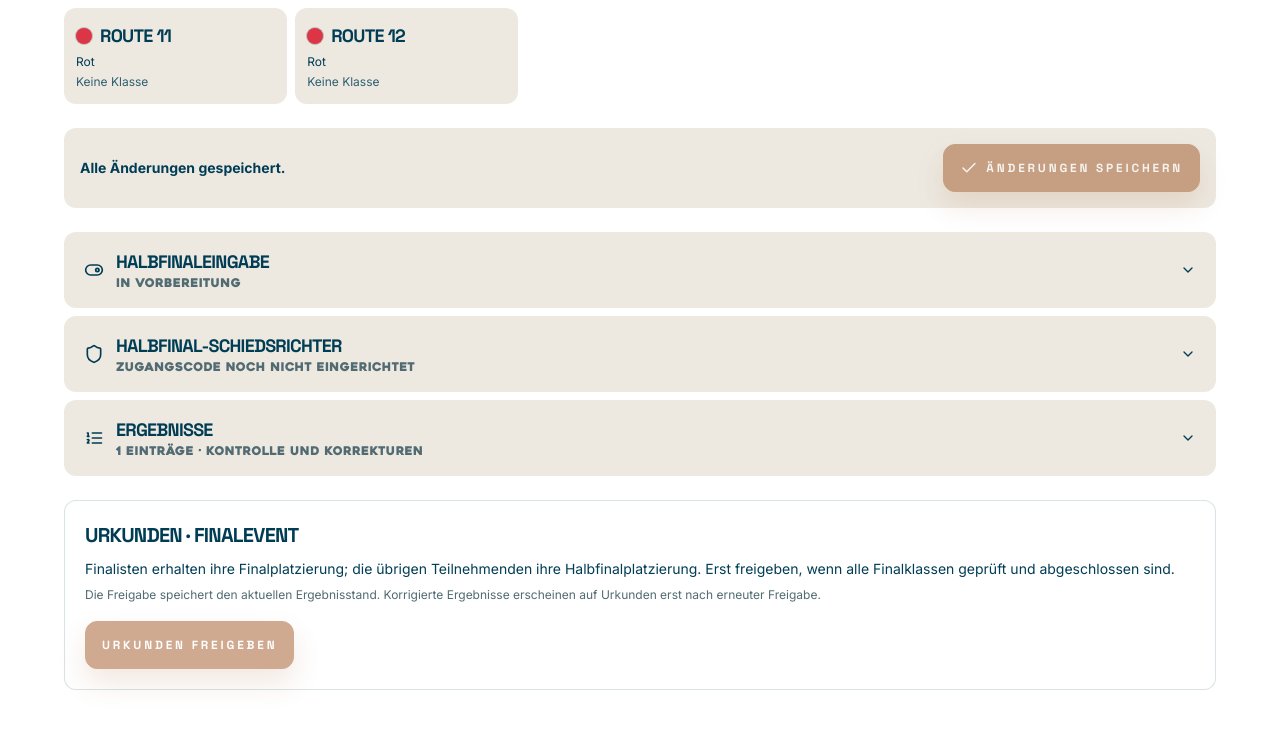
Test: competition admin › labels existing results and correction choices with physical grip numbers
(page scrolled)
Step 1. Click the button "Ergebnisse 1 Einträge · Kontrolle und Korrekturen" → (164, 430), box [64,400,1216,476]
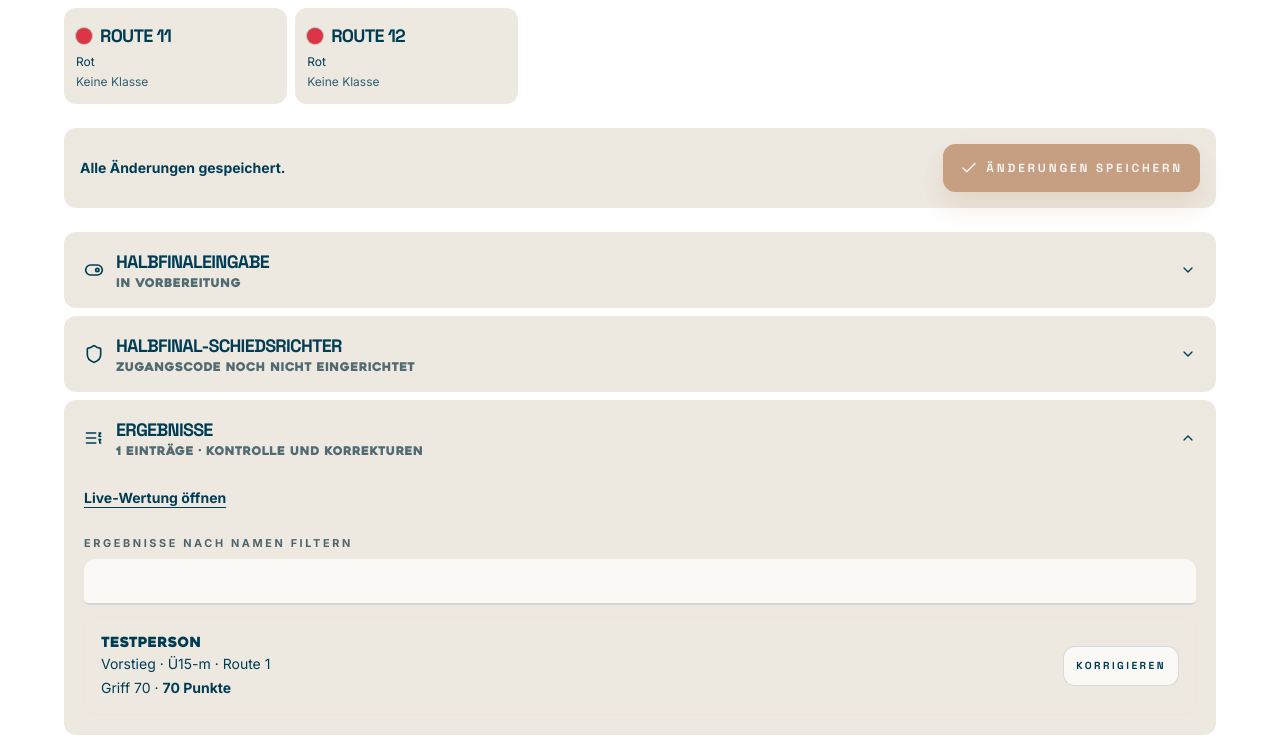
expect the text "Griff 70 · 70 Punkte" is shown: met, box [101,679,231,696]
Step 2. Click the button "Korrigieren" → (1121, 666), box [1063,646,1179,686]
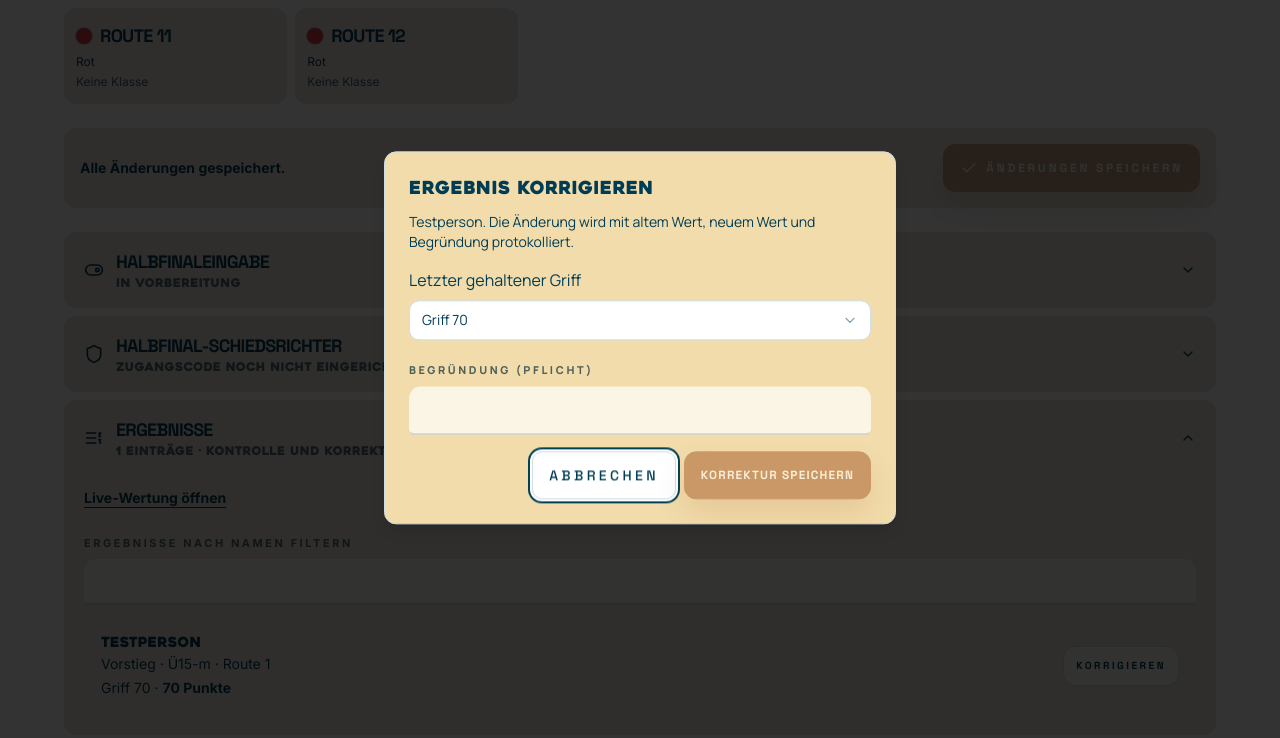
expect the text "Letzter gehaltener Griff" is shown: met, box [409,269,581,291]
Step 3. Click the dropdown named "Korrigierter Griff" → (445, 320), box [409,300,871,340]
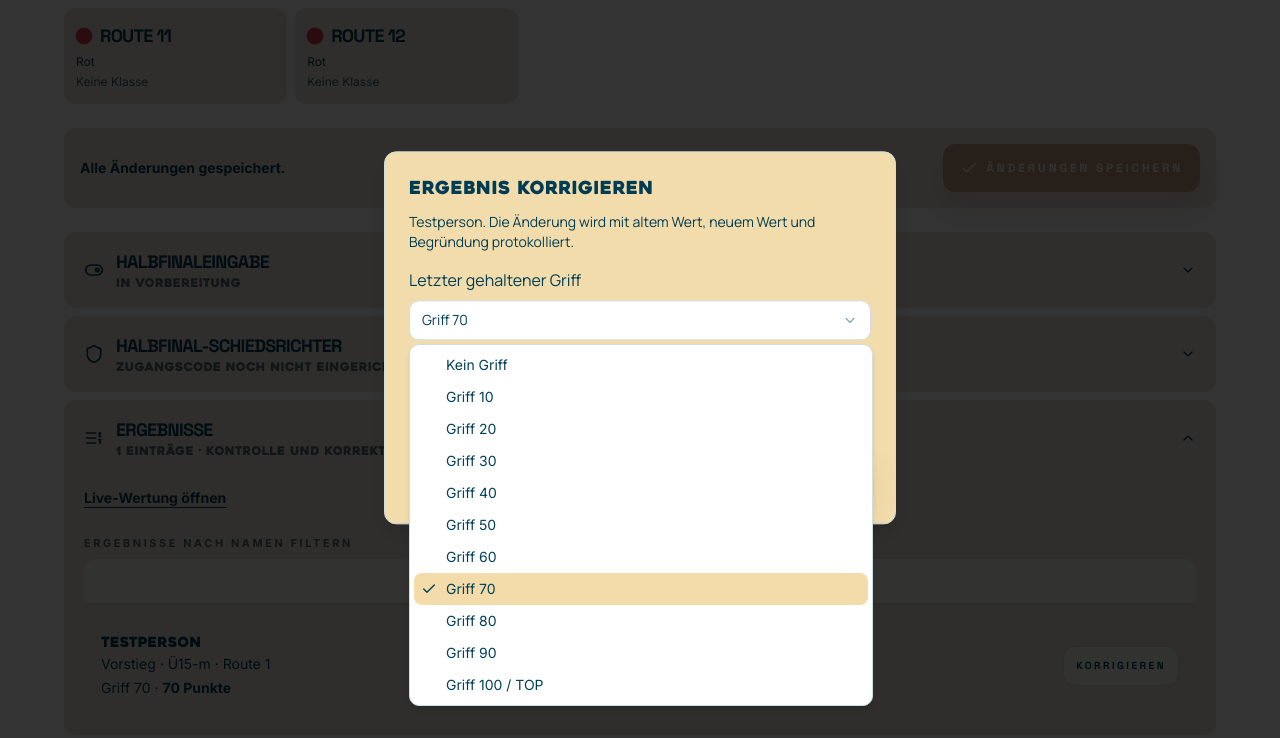
expect the option "Griff 10" is shown: met, box [446,388,494,405]
expect the option "Griff 70" is shown: met, box [414,573,868,605]
expect the option "Griff 100 / TOP" is shown: met, box [446,676,544,693]
